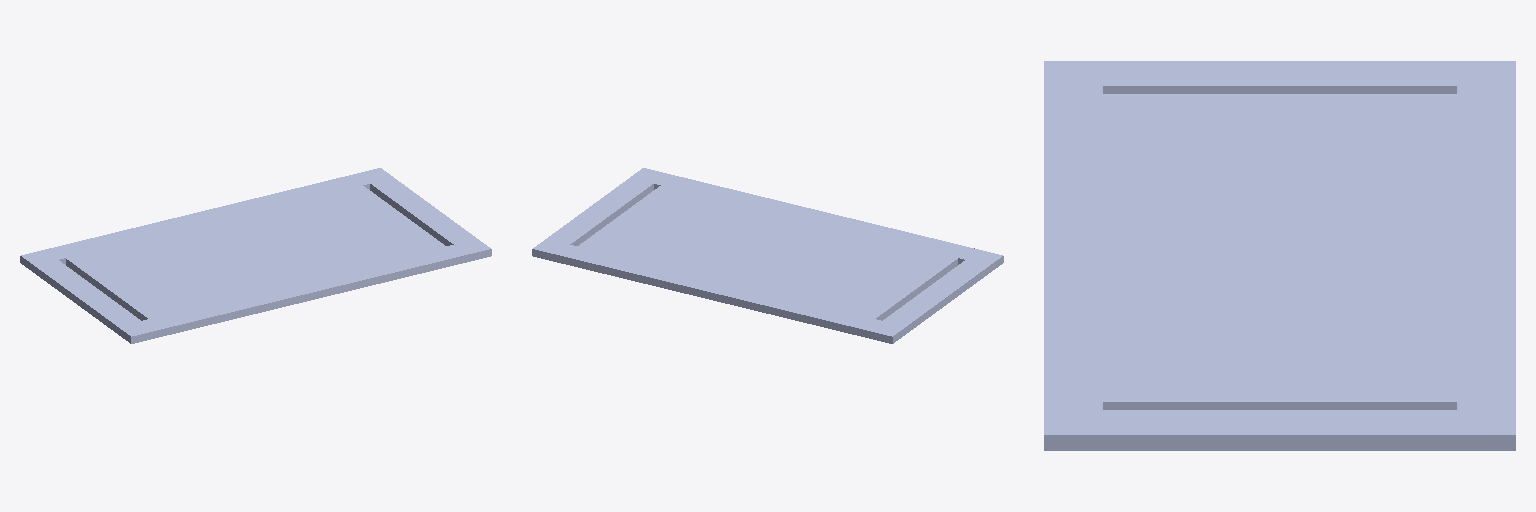
robot.urdf — wheel_urdf:
<?xml version="1.0" encoding="utf-8"?>
<!-- This URDF was automatically created by SolidWorks to URDF Exporter! Originally created by [author] ([email redacted]) 
     Commit Version: 1.6.0-4-g7f85cfe  Build Version: 1.6.7995.38578
     For more information, please see http://wiki.ros.org/sw_urdf_exporter -->
<robot
  name="wheel_urdf">
  <link
    name="base_link">
    <inertial>
      <origin
        xyz="0.0266199664022011 2.54443344211199E-07 -0.00749986496410977"
        rpy="0 0 0" />
      <mass
        value="0.0297341208517047" />
      <inertia
        ixx="2.0379194392827E-05"
        ixy="-8.11646931968838E-11"
        ixz="-4.38128305997288E-11"
        iyy="1.22910469818689E-05"
        iyz="-5.19100251821649E-10"
        izz="1.22917483733964E-05" />
    </inertial>
    <visual>
      <origin
        xyz="0 0 0"
        rpy="0 0 0" />
      <geometry>
        <mesh
          filename="package://wheel_urdf/meshes/base_link.STL" />
      </geometry>
      <material
        name="">
        <color
          rgba="0.792156862745098 0.819607843137255 0.933333333333333 1" />
      </material>
    </visual>
    <collision>
      <origin
        xyz="0 0 0"
        rpy="0 0 0" />
      <geometry>
        <mesh
          filename="package://wheel_urdf/meshes/base_link.STL" />
      </geometry>
    </collision>
  </link>
</robot>

--- Render facts (derived) ---
Views: 3 orthographic renders of the robot side by side, from view 1: azimuth 30°, elevation 25°; view 2: azimuth 150°, elevation 25°; view 3: azimuth 270°, elevation 25°.
Model wheel_urdf with 1 links and 0 joints (none), rooted at base_link, posed every joint at zero.
Links seen in each view (by area): view 1: base_link; view 2: base_link; view 3: base_link.
Boxes of the visible links, x1,y1,x2,y2 form: base_link: (20, 168, 491, 343); base_link: (532, 168, 1003, 343); base_link: (1044, 61, 1515, 450).
Size in the robot's own frame: 0.15 by 0.08 by 0.003 metres.
Meshes: 1 distinct files referenced, 1 mesh visuals loaded (1 binary STL).